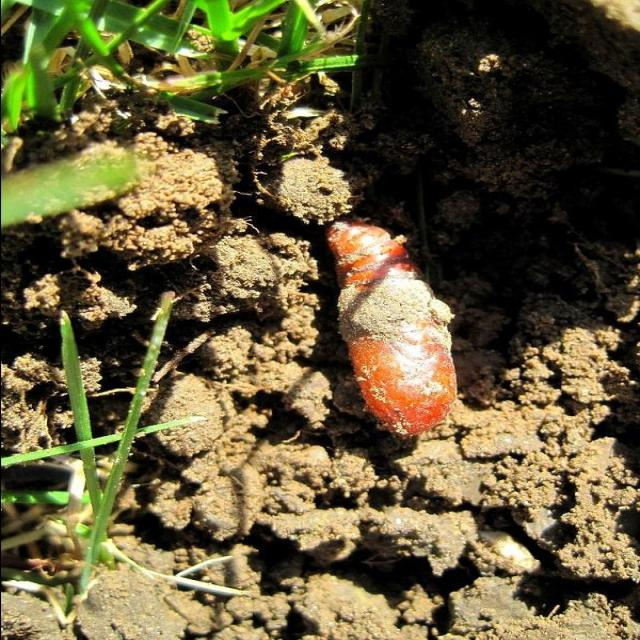black cutworm: (343, 225, 463, 445)
